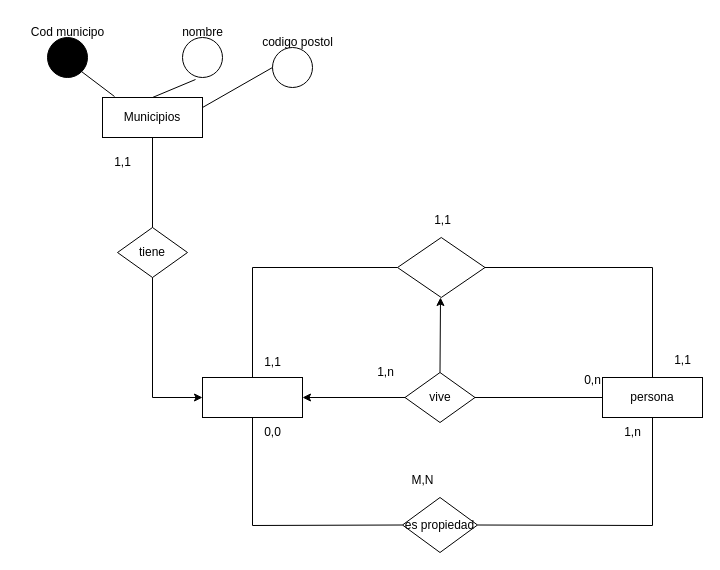
Some shapes in this 720 by 570 pixel diagram are drawn without their labels. Here are the shapes that lost their labels. From the top down, the centre of each, then its label:
point (440, 267): Cabeza de amilia
point (252, 397): vivienda
